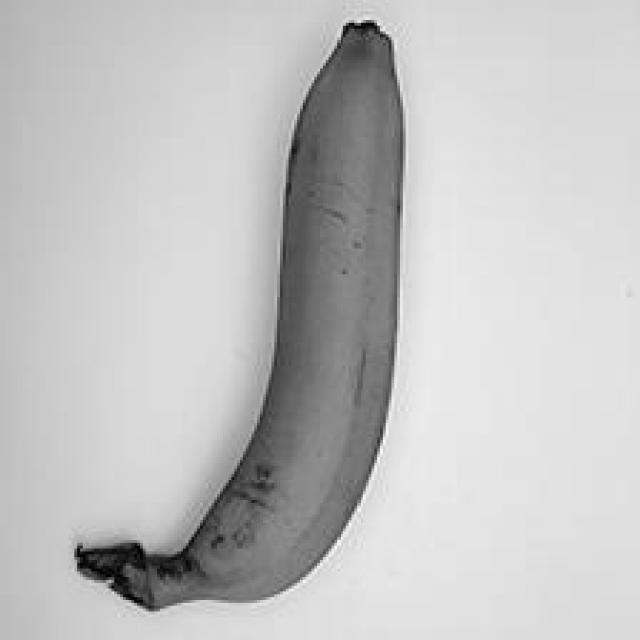Raw: (64, 0, 422, 622)
